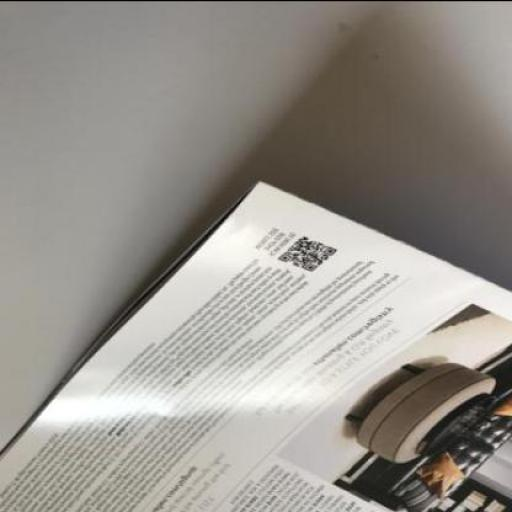paper: (1, 180, 512, 510)
